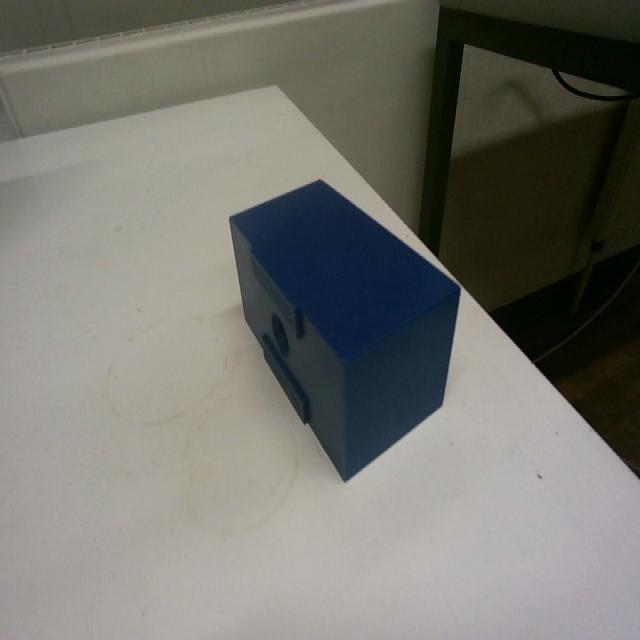Blue Cuboid: (226, 173, 462, 483)
